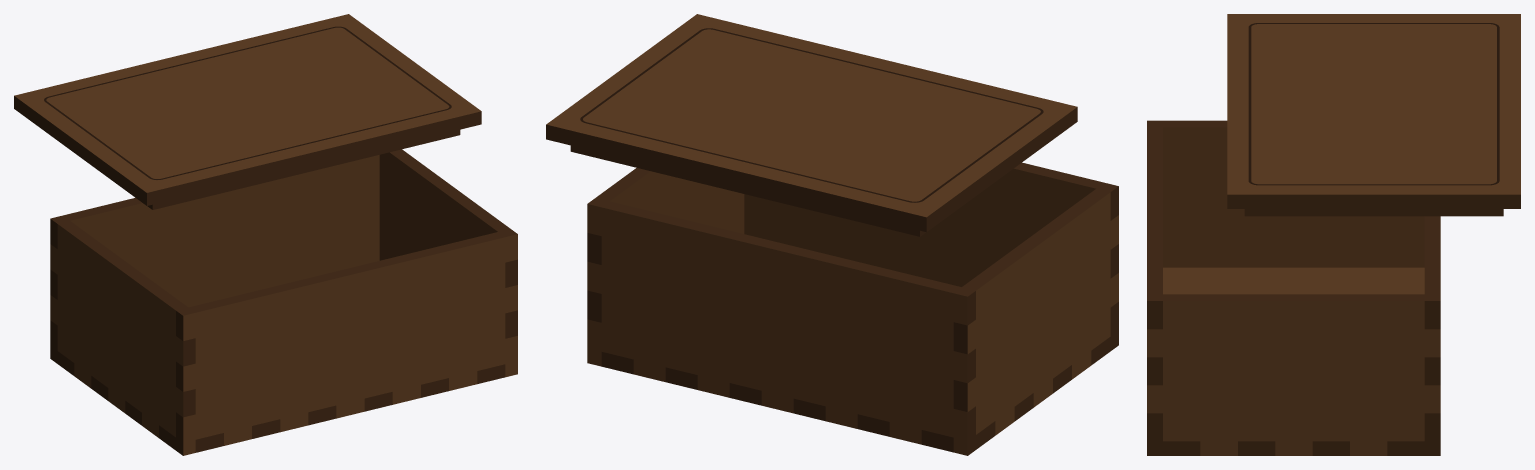
3 renders of one model, left to right at view 1: azimuth 30°, elevation 25°; view 2: azimuth 150°, elevation 25°; view 3: azimuth 270°, elevation 25°, orthographic. The views are drawn at different scales.
Visible parts, largest first — view 1: lid, front, back, left-end, right-end, base, lid-liner, lid-border; view 2: lid, back, left-end, front, right-end, base, lid-liner, lid-border; view 3: lid, right-end, left-end, base, front, back, lid-liner, lid-border.
Boxes of the visible parts, x1,y1,x2,y2 form: lid: [14, 14, 481, 205]; front: [176, 229, 517, 455]; back: [50, 155, 379, 363]; left-end: [50, 221, 195, 437]; right-end: [379, 149, 517, 338]; base: [57, 351, 505, 452]; lid-liner: [147, 130, 460, 209]; lid-border: [44, 26, 451, 179]; lid: [546, 14, 1077, 232]; back: [587, 198, 975, 455]; left-end: [953, 189, 1118, 435]; front: [744, 162, 1118, 350]; right-end: [587, 168, 744, 322]; base: [601, 337, 1110, 452]; lid-liner: [570, 145, 925, 236]; lid-border: [580, 28, 1043, 202]; lid: [1227, 14, 1520, 208]; right-end: [1147, 294, 1440, 455]; left-end: [1163, 120, 1424, 267]; base: [1163, 267, 1424, 455]; front: [1147, 120, 1162, 455]; back: [1424, 216, 1440, 455]; lid-liner: [1244, 209, 1503, 216]; lid-border: [1248, 23, 1499, 185].
Bounding box in the file's own units: 160 × 108 × 140.
